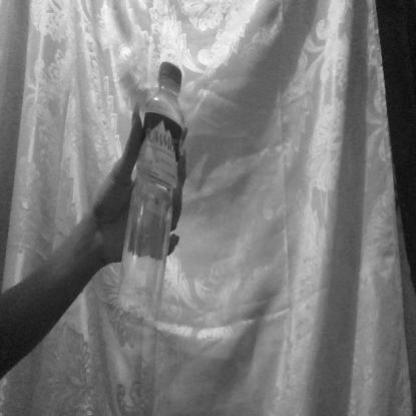Plastic Bottle: (110, 49, 195, 346)
